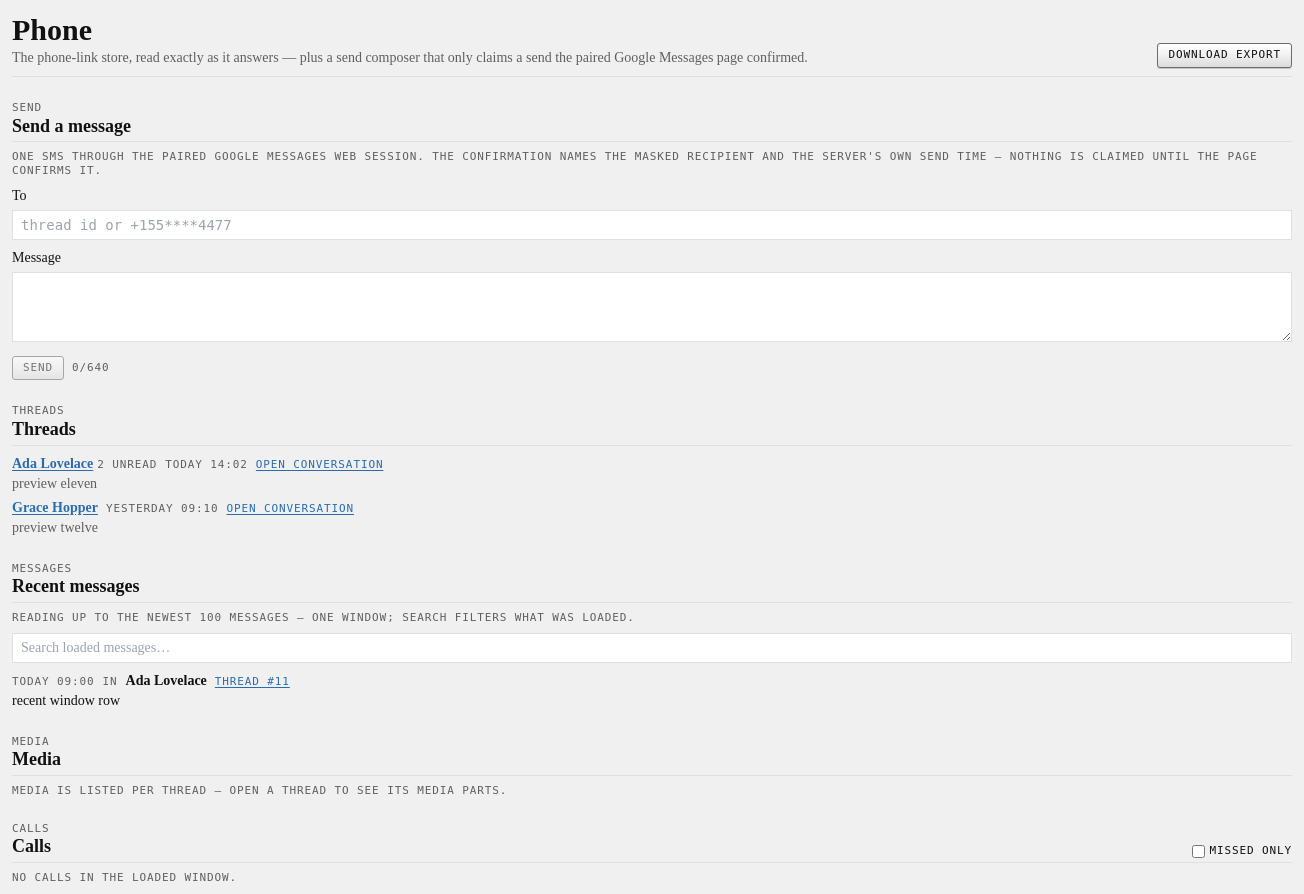
Scenario: phone thread view — loading / empty / refusal / unavailable › refuses a wrong-typed row BY NAME — a numeric `when` never renders as a time
Click the button with aria-label "Open conversation with Ada Lovelace".
click(320, 464)  # box top-left (256, 458), bottom-right (383, 471)
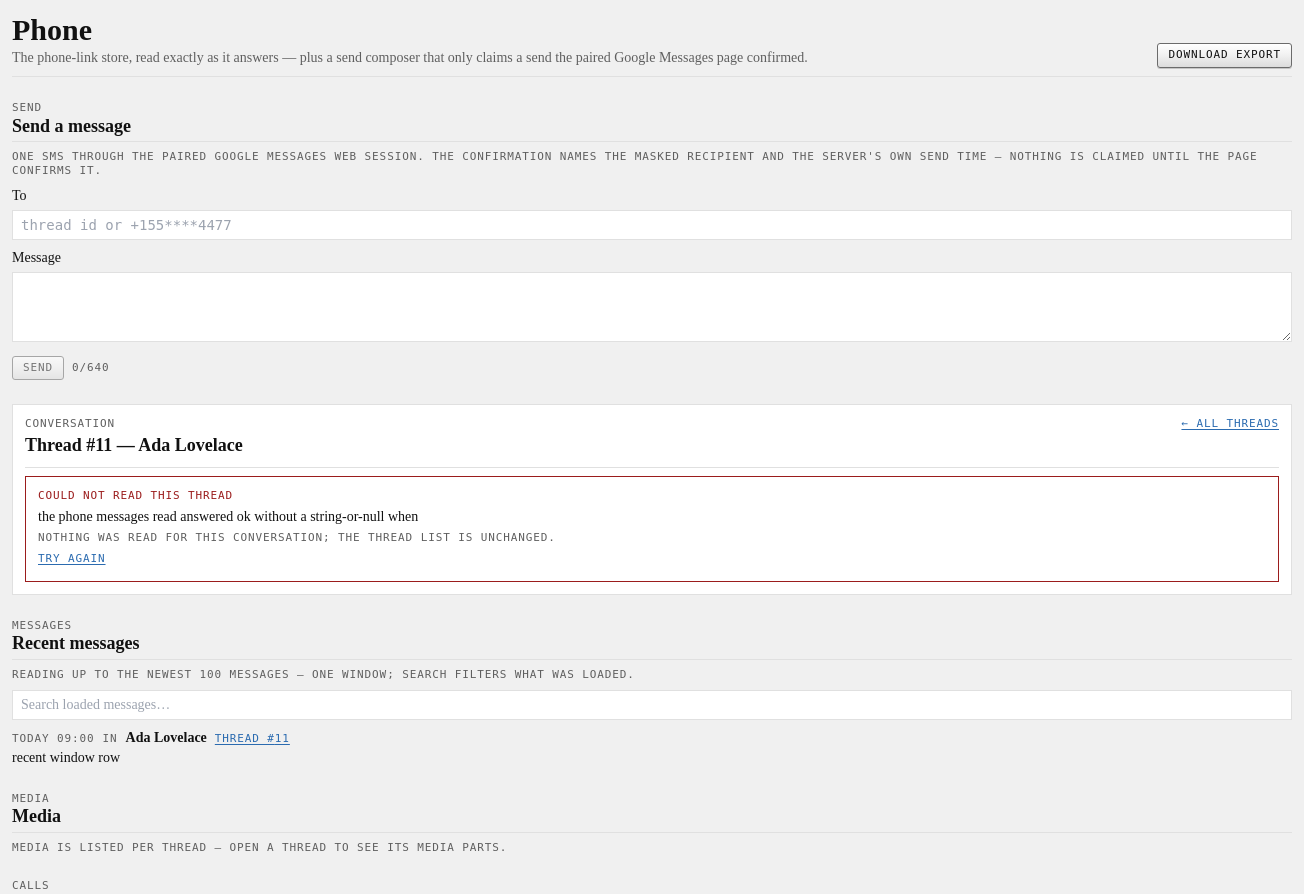
expect the message with test id "phone-thread-error" shows "string-or-null when": met, box top-left (38, 509), bottom-right (418, 524)
